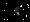person: (14, 5, 23, 19)
